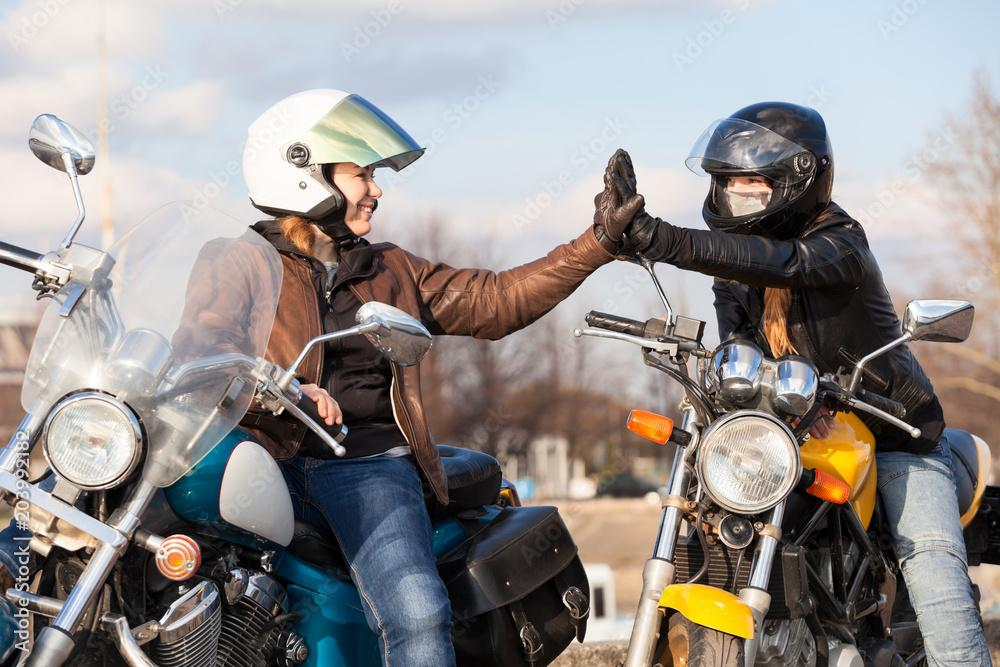helmet: (241, 87, 428, 252), (683, 100, 836, 254)
